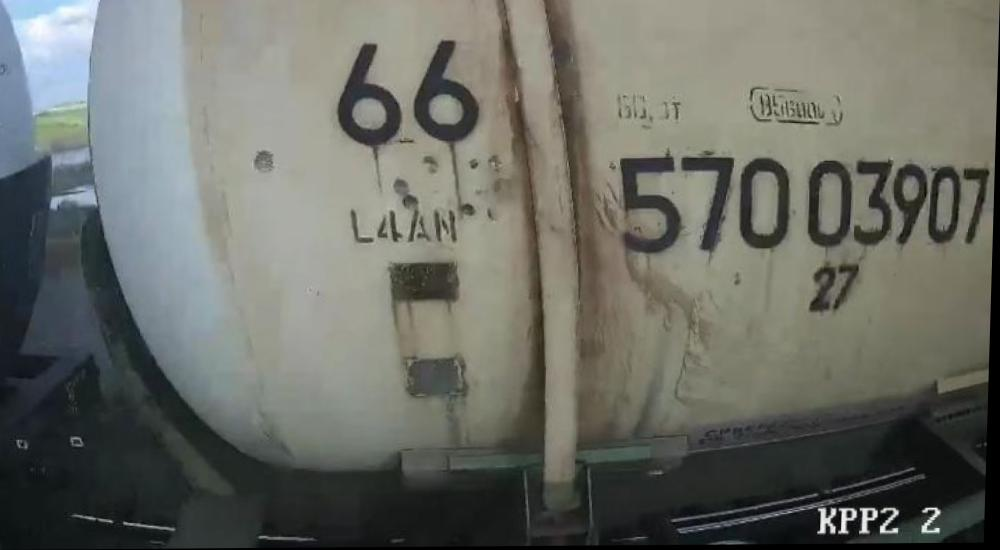Wagon-number: (611, 151, 993, 259)
